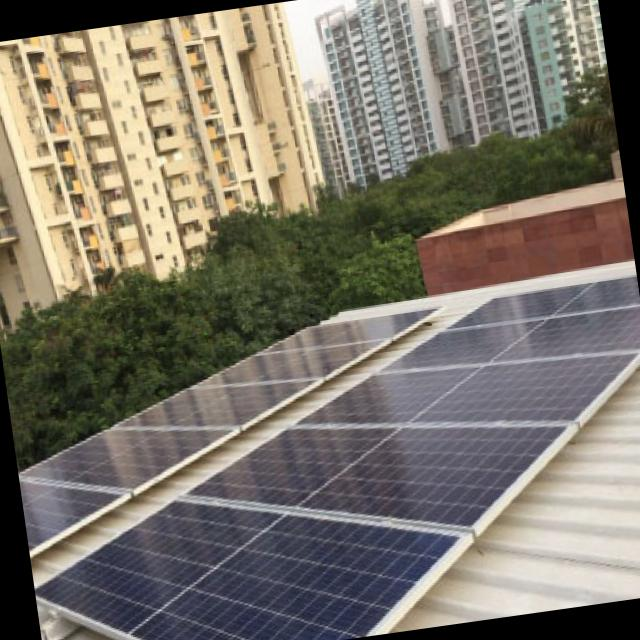no faulty: (43, 285, 640, 640), (19, 317, 420, 540)
